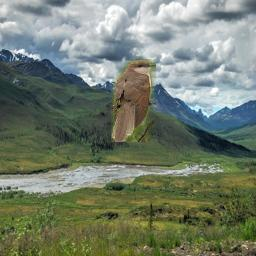Cuckoo: (112, 60, 157, 143)
